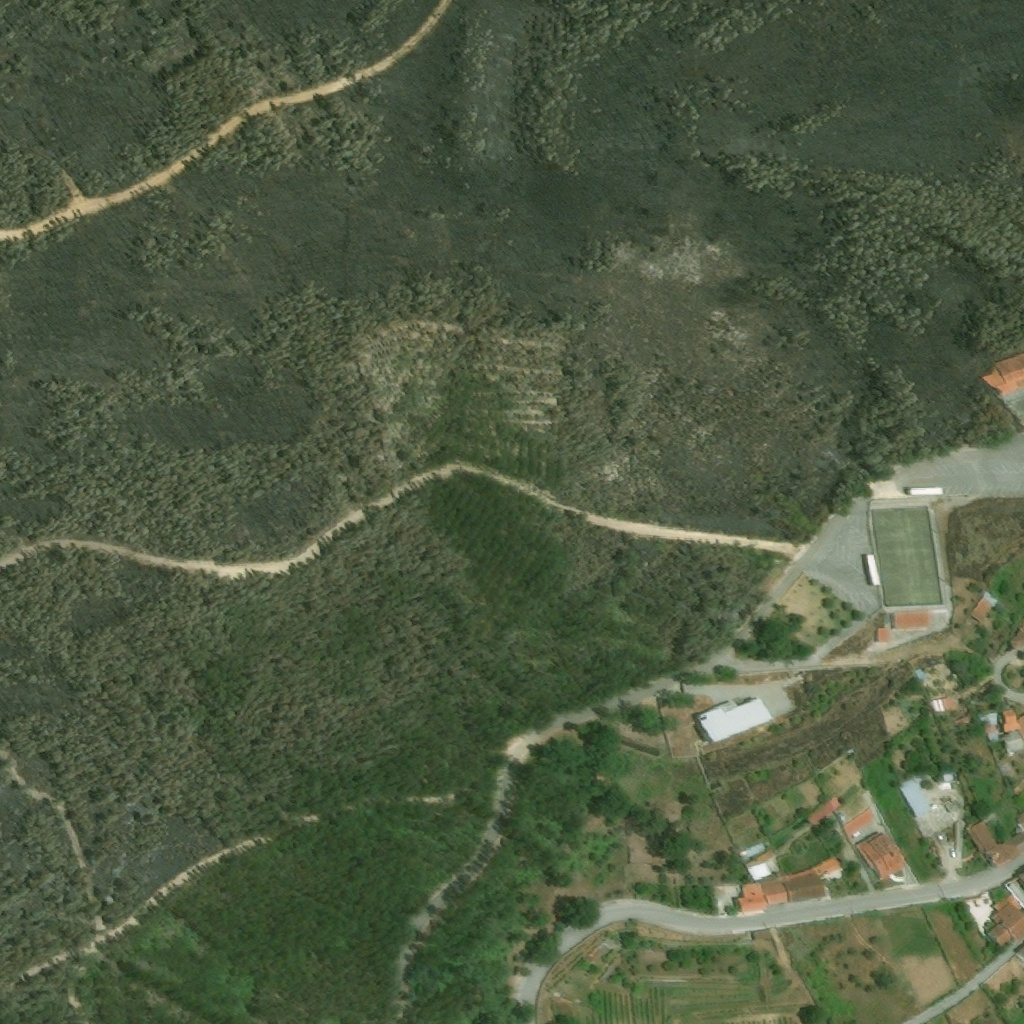0 no-damage: (737, 867, 827, 913), (695, 695, 776, 743), (966, 817, 1023, 871), (853, 832, 905, 881), (978, 352, 1023, 399), (986, 901, 1023, 948), (898, 776, 932, 816), (807, 795, 842, 826), (746, 854, 782, 883), (843, 807, 875, 837), (970, 590, 999, 623), (813, 857, 846, 886), (892, 611, 929, 628), (739, 839, 768, 860), (1002, 730, 1023, 755), (744, 849, 774, 865), (1003, 707, 1018, 733), (931, 696, 954, 712), (984, 725, 1002, 743), (978, 709, 998, 725), (913, 668, 928, 684), (878, 628, 889, 643)
4 un-classified: (1005, 879, 1023, 908), (1009, 620, 1023, 648), (1016, 715, 1023, 734), (1015, 813, 1023, 828)
